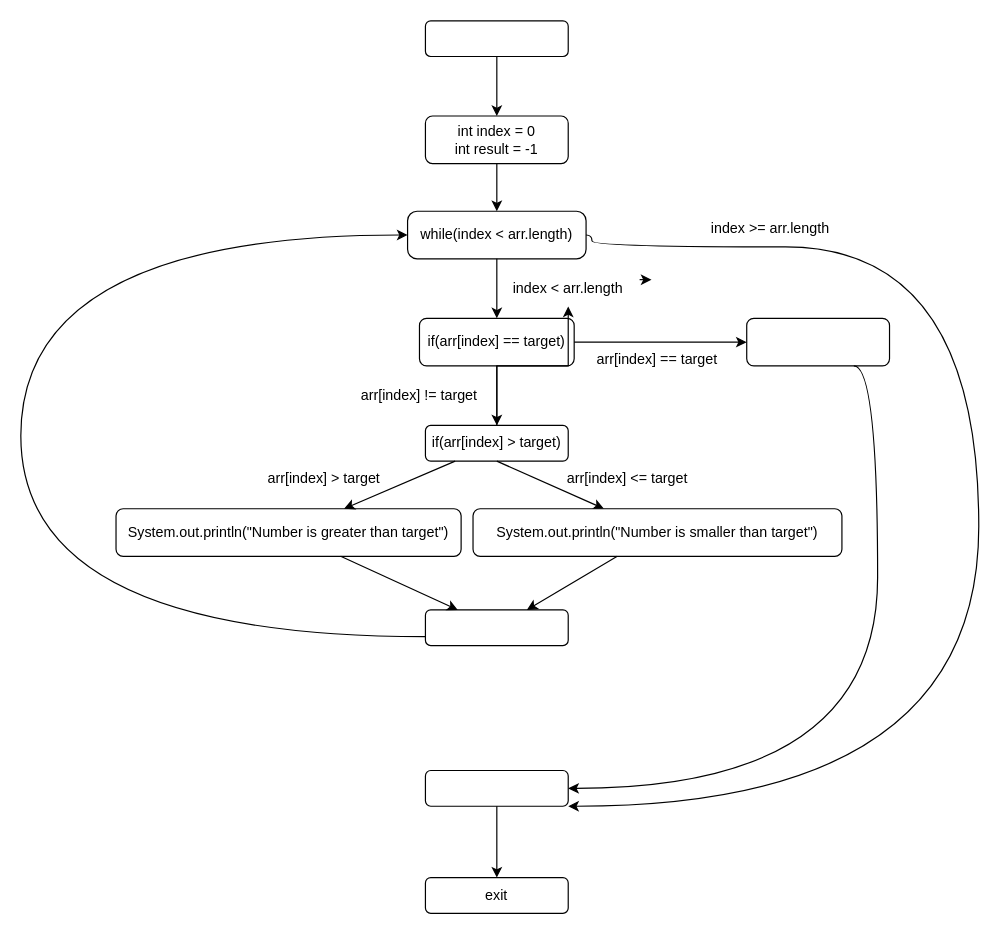
This 1000x934 diagram has some shape labels left out. Each missing label, with the centre of its shape:
"Entry" goes at (x=496, y=38).
"index++" goes at (x=496, y=627).
"result = index" goes at (x=818, y=341).
"return result" goes at (x=496, y=787).
